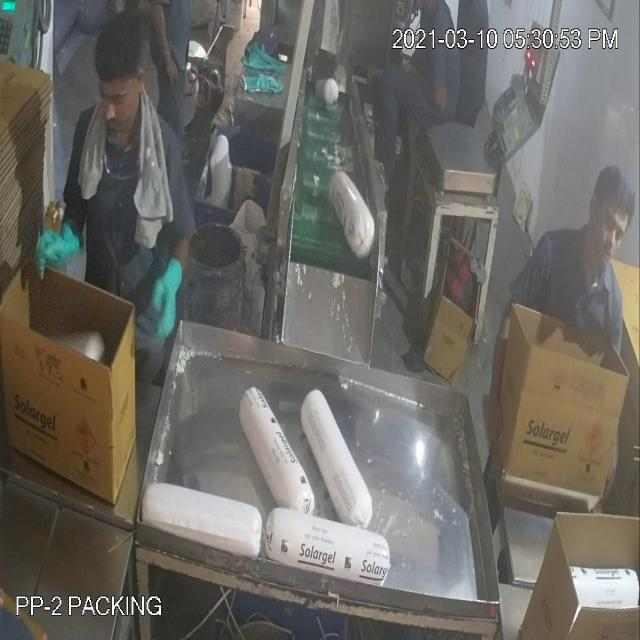Gloves: (36, 46, 502, 378)
